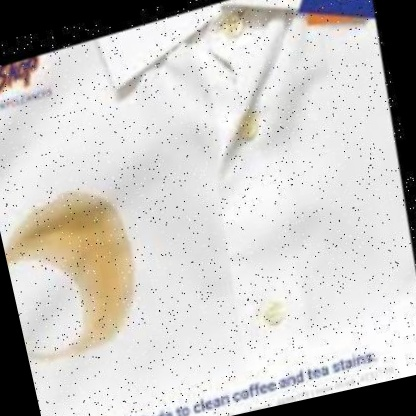coffee: (58, 181, 149, 332), (11, 202, 69, 261)
